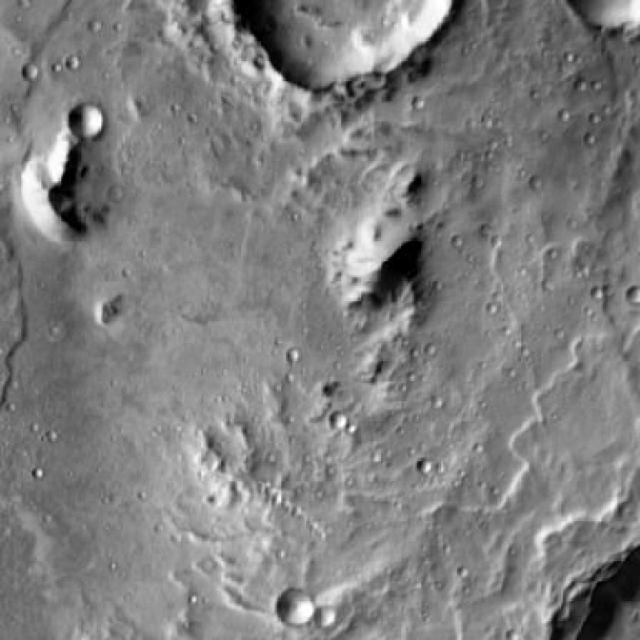crater: (241, 0, 461, 86), (555, 543, 640, 640), (68, 104, 107, 142), (277, 590, 315, 627), (315, 606, 336, 628), (18, 62, 36, 80), (334, 411, 352, 429), (417, 458, 434, 474), (622, 276, 630, 292)
